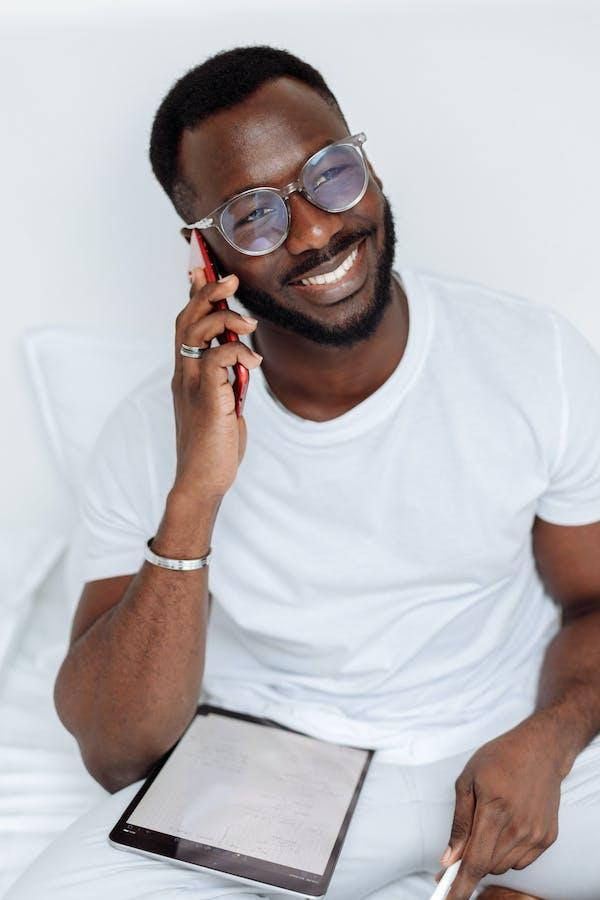eyeglasses: (212, 120, 378, 265)
